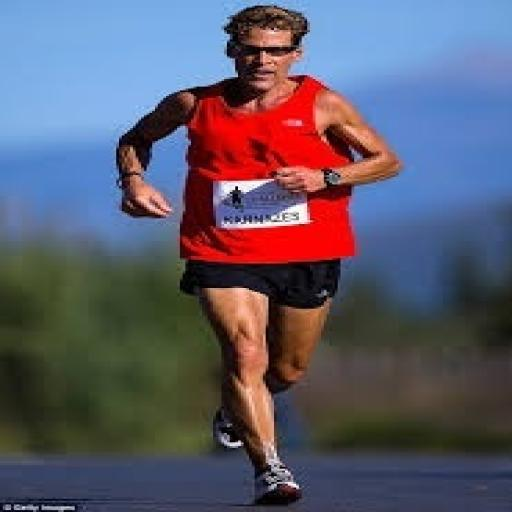running: (111, 4, 407, 506)
